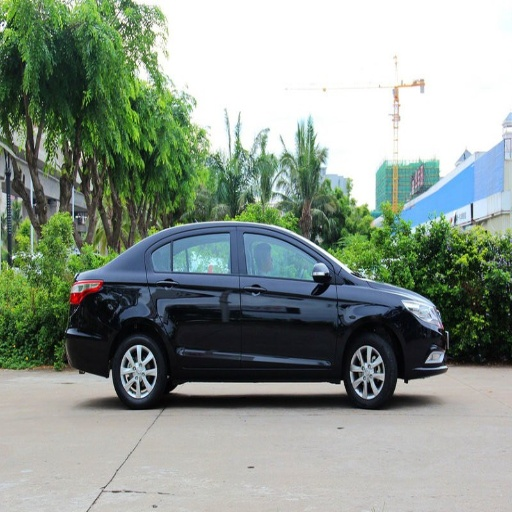back_right_door: (148, 226, 242, 366)
front_right_door: (240, 227, 338, 369)
